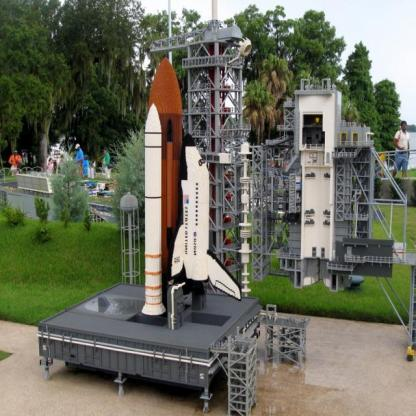MIL_TBM: (140, 98, 164, 319)
